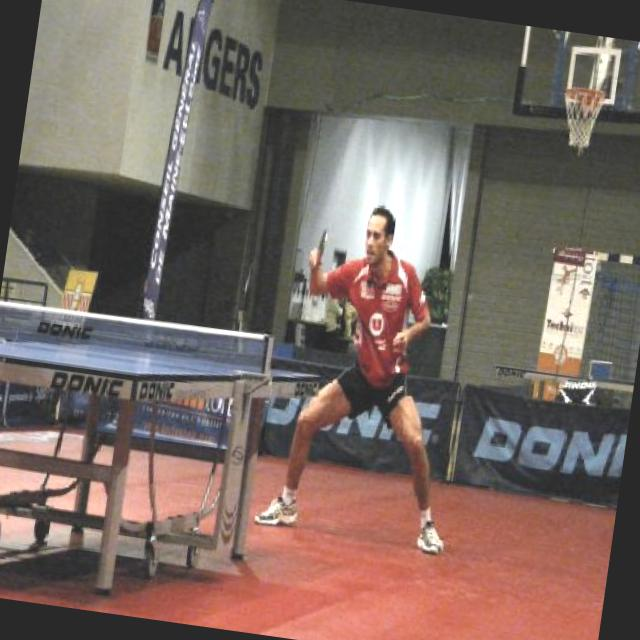Person: (269, 189, 471, 560)
